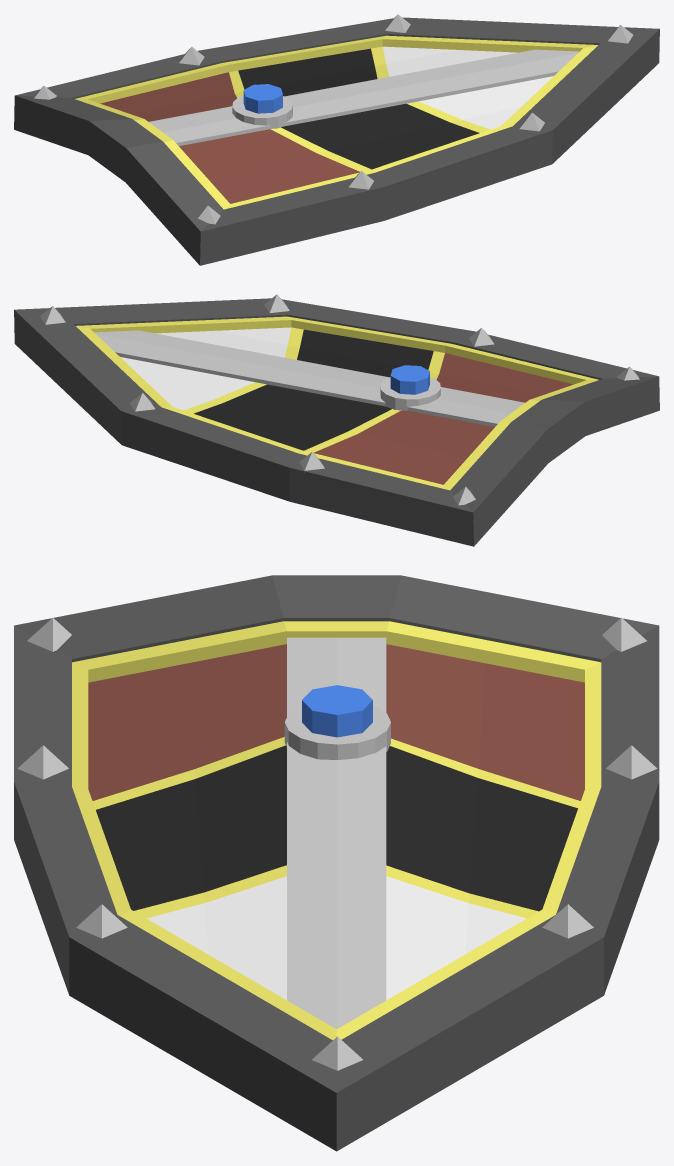
The model's file is Shield_4_e_r.fbx.
3 renders of one model, top to bottom at view 1: azimuth 30°, elevation 25°; view 2: azimuth 150°, elevation 25°; view 3: azimuth 270°, elevation 25°, orthographic. The views are drawn at different scales.
Parts seen in each view (by area): view 1: Plane.053, Plane.069, Plane.057, Plane.056, Plane.055, Plane.041, Plane.058, Circle.039, Circle.011; view 2: Plane.053, Plane.057, Plane.069, Plane.056, Plane.055, Plane.041, Plane.058, Circle.039, Circle.011; view 3: Plane.053, Plane.057, Plane.056, Plane.069, Plane.055, Plane.041, Plane.058, Circle.039, Circle.011, Cone.151, Cone.147, Cone.150 (+4 smaller).
Part boxes in pixels (bbox=[...]): Plane.053: bbox=[14, 17, 659, 265]; Plane.069: bbox=[149, 49, 579, 145]; Plane.057: bbox=[100, 72, 359, 203]; Plane.056: bbox=[238, 48, 479, 169]; Plane.055: bbox=[75, 35, 597, 209]; Plane.041: bbox=[383, 46, 553, 129]; Plane.058: bbox=[229, 46, 489, 171]; Circle.039: bbox=[232, 95, 292, 128]; Circle.011: bbox=[243, 84, 282, 113]; Plane.053: bbox=[14, 298, 659, 546]; Plane.057: bbox=[314, 353, 573, 484]; Plane.069: bbox=[94, 330, 524, 426]; Plane.056: bbox=[194, 329, 433, 450]; Plane.055: bbox=[76, 316, 598, 490]; Plane.041: bbox=[120, 327, 290, 410]; Plane.058: bbox=[184, 327, 444, 452]; Circle.039: bbox=[380, 377, 440, 410]; Circle.011: bbox=[390, 365, 429, 394]; Plane.053: bbox=[14, 575, 659, 1151]; Plane.057: bbox=[88, 644, 584, 800]; Plane.056: bbox=[96, 745, 577, 911]; Plane.069: bbox=[287, 637, 386, 1029]; Plane.055: bbox=[72, 621, 601, 1039]; Plane.041: bbox=[146, 876, 526, 1000]; Plane.058: bbox=[92, 737, 580, 918]; Circle.039: bbox=[284, 705, 390, 759]; Circle.011: bbox=[302, 685, 372, 737]; Cone.151: bbox=[606, 745, 659, 779]; Cone.147: bbox=[76, 904, 127, 938]; Cone.150: bbox=[17, 745, 68, 779].
Bounding box in the file's own units: 78.1 × 17.09 × 45.54.
